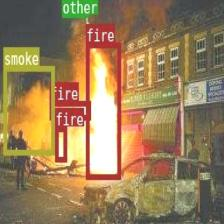fire: (85, 42, 121, 178), (49, 100, 90, 119), (54, 126, 66, 161)
smoke: (3, 65, 53, 154)
